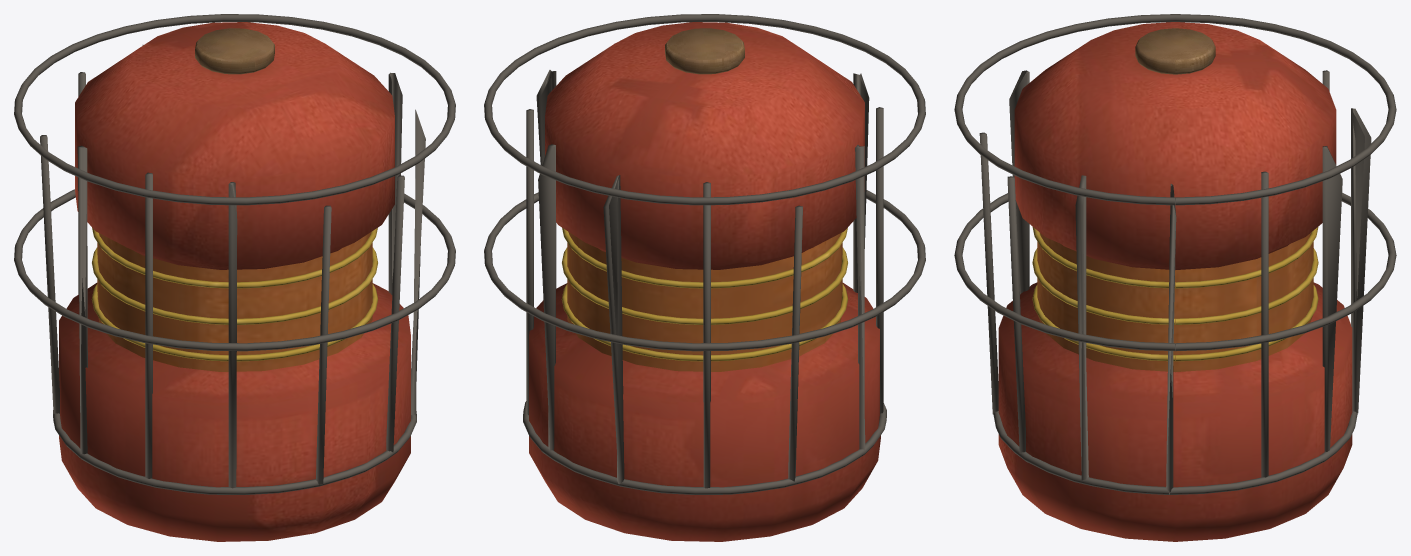
Rendered from stove_round_red.glb.
3 views of the same model, side by side, from view 1: azimuth 30°, elevation 25°; view 2: azimuth 150°, elevation 25°; view 3: azimuth 270°, elevation 25° (orthographic).
Visible parts, largest first — view 1: stove_round_red_felt_red, stove_round_red_thread_dark, stove_round_red_felt_heat, stove_round_red_felt_flame_y, stove_round_red_wood; view 2: stove_round_red_felt_red, stove_round_red_thread_dark, stove_round_red_felt_heat, stove_round_red_felt_flame_y, stove_round_red_wood; view 3: stove_round_red_felt_red, stove_round_red_thread_dark, stove_round_red_felt_heat, stove_round_red_felt_flame_y, stove_round_red_wood.
Boxes of the visible parts, x1=… form: stove_round_red_felt_red: x1=59, y1=22, x2=410, y2=541; stove_round_red_thread_dark: x1=14, y1=14, x2=455, y2=494; stove_round_red_felt_heat: x1=97, y1=232, x2=372, y2=371; stove_round_red_felt_flame_y: x1=91, y1=227, x2=378, y2=361; stove_round_red_wood: x1=195, y1=28, x2=274, y2=74; stove_round_red_felt_red: x1=529, y1=22, x2=880, y2=541; stove_round_red_thread_dark: x1=484, y1=14, x2=925, y2=494; stove_round_red_felt_heat: x1=567, y1=232, x2=842, y2=371; stove_round_red_felt_flame_y: x1=561, y1=227, x2=848, y2=361; stove_round_red_wood: x1=665, y1=28, x2=744, y2=74; stove_round_red_felt_red: x1=998, y1=22, x2=1352, y2=541; stove_round_red_thread_dark: x1=954, y1=14, x2=1396, y2=494; stove_round_red_felt_heat: x1=1037, y1=233, x2=1313, y2=372; stove_round_red_felt_flame_y: x1=1032, y1=226, x2=1318, y2=361; stove_round_red_wood: x1=1135, y1=28, x2=1215, y2=74.
Bounding box in the file's own units: 1.1 × 1.18 × 1.1.
5 materials, 4 textured.
